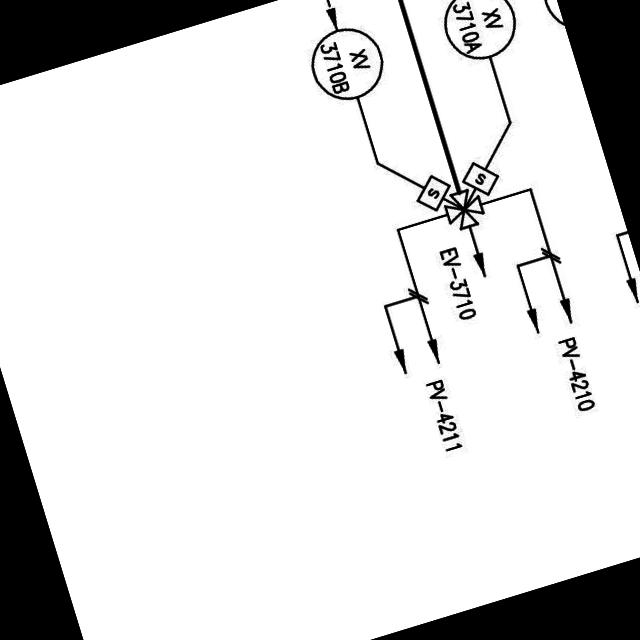4W: (434, 181, 492, 237)
